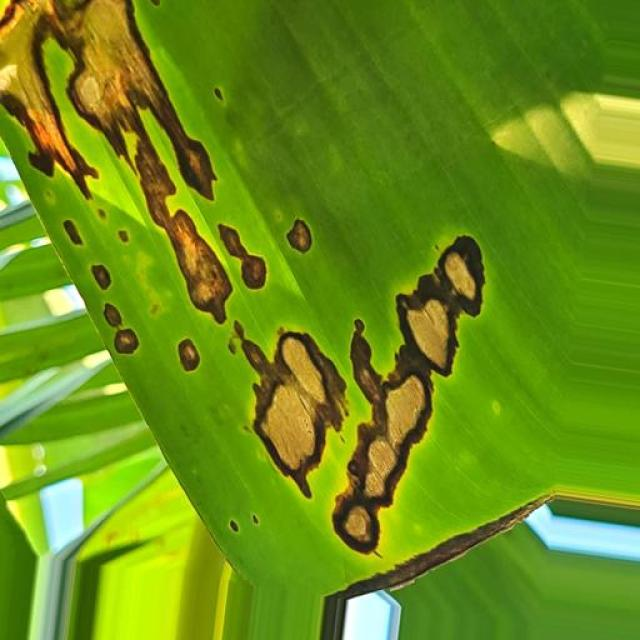Early_rust: (0, 0, 509, 582)
